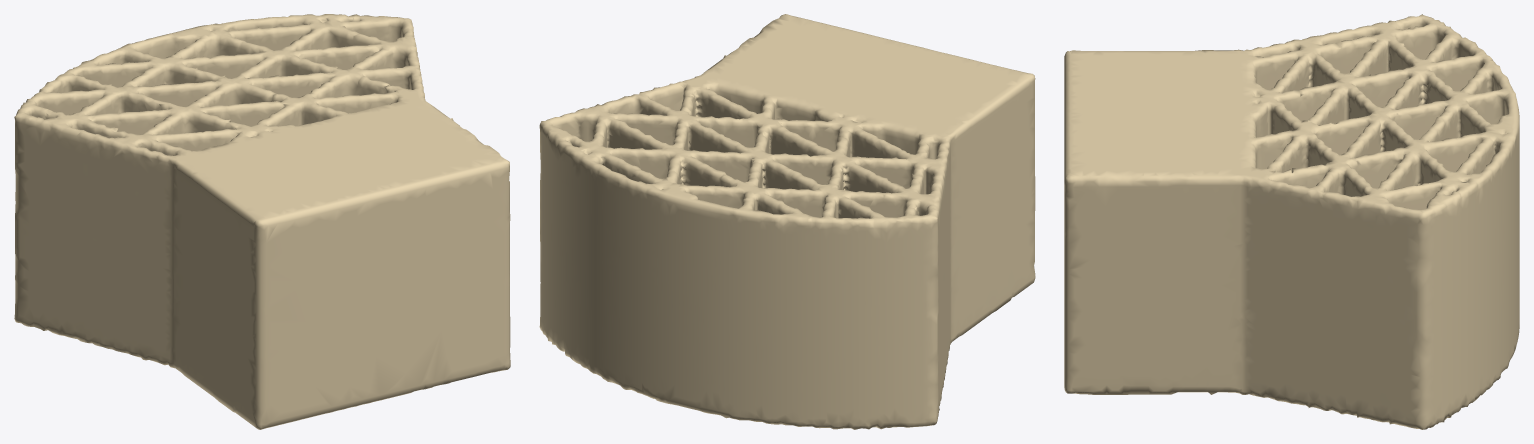
File: ollie-paw-shape-040.glb
3 renders of one model, left to right at view 1: azimuth 30°, elevation 25°; view 2: azimuth 150°, elevation 25°; view 3: azimuth 270°, elevation 25°, orthographic. The views are drawn at different scales.
Parts seen in each view (by area): view 1: world; view 2: world; view 3: world.
Part boxes in pixels (left/top/right/bottom): world: left=14, top=14, right=510, bottom=429; world: left=539, top=14, right=1035, bottom=429; world: left=1064, top=14, right=1519, bottom=429.
Bounding box in the file's own units: 39.85 × 20 × 38.
